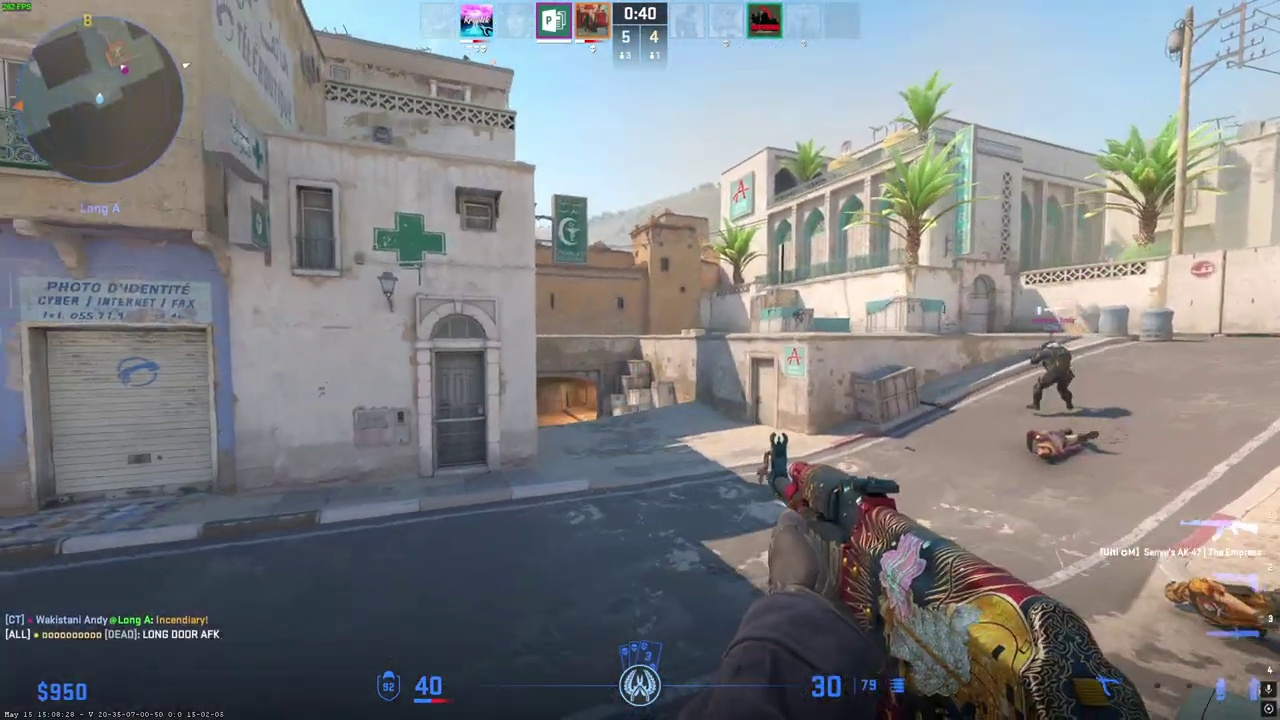CT: (1031, 340, 1074, 410)
